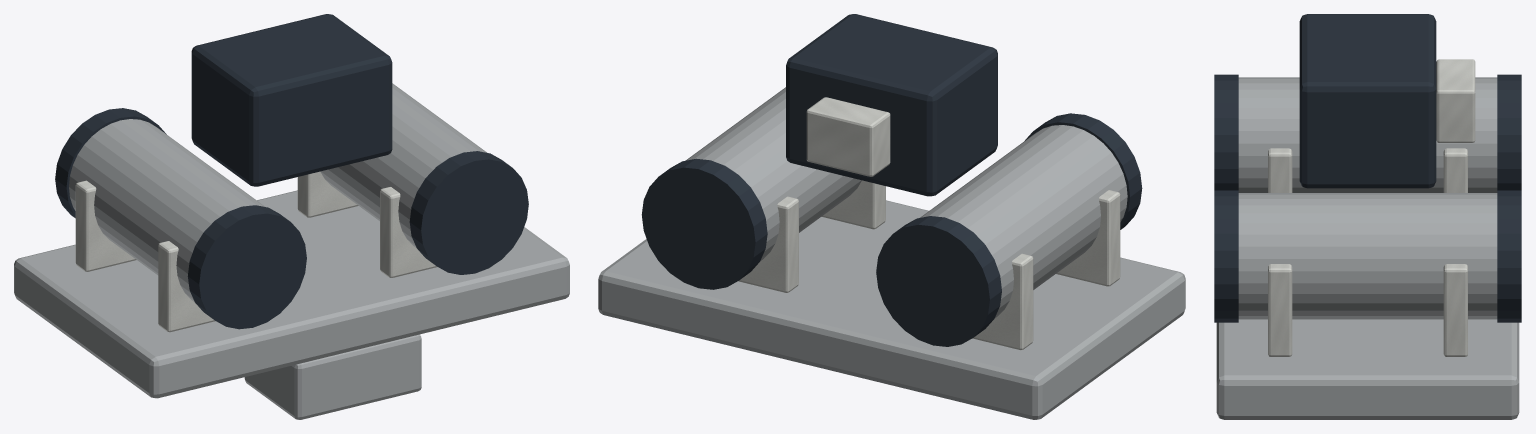
Rendered from lunar_neutron_spectrometer.glb.
3 views of the same model, side by side, from view 1: azimuth 30°, elevation 25°; view 2: azimuth 150°, elevation 25°; view 3: azimuth 270°, elevation 25° (orthographic). The views are drawn at different scales.
Parts seen in each view (by area): view 1: Neutron_Mount, Sensor_Electronics, Neutron_DetectorTube, Detector_EndCap.002, Detector_EndCap, Chassis_StandOff, Neutron_DetectorTube.001, Detector_Clamp.001, Detector_Clamp, Detector_Clamp.002, Detector_EndCap.001, Detector_Clamp.003; view 2: Neutron_Mount, Sensor_Electronics, Neutron_DetectorTube, Detector_EndCap.001, Detector_EndCap.003, Neutron_DetectorTube.001, Sensor_Connector, Detector_Clamp, Detector_Clamp.001, Detector_Clamp.003, Detector_EndCap, Detector_Clamp.002; view 3: Neutron_DetectorTube.001, Neutron_Mount, Sensor_Electronics, Neutron_DetectorTube, Sensor_Connector, Detector_EndCap.002, Detector_EndCap.003, Detector_EndCap, Detector_EndCap.001, Detector_Clamp.002, Detector_Clamp.003, Detector_Clamp (+1 smaller).
Part boxes in pixels (x1=…): Neutron_Mount: x1=14, y1=190, x2=569, y2=398; Sensor_Electronics: x1=191, y1=14, x2=392, y2=186; Neutron_DetectorTube: x1=69, y1=119, x2=265, y2=301; Detector_EndCap.002: x1=409, y1=151, x2=528, y2=274; Detector_EndCap: x1=187, y1=205, x2=306, y2=329; Chassis_StandOff: x1=244, y1=334, x2=421, y2=419; Neutron_DetectorTube.001: x1=320, y1=83, x2=487, y2=247; Detector_Clamp.001: x1=75, y1=180, x2=136, y2=271; Detector_Clamp: x1=158, y1=241, x2=215, y2=332; Detector_Clamp.002: x1=380, y1=187, x2=437, y2=277; Detector_EndCap.001: x1=55, y1=108, x2=166, y2=218; Detector_Clamp.003: x1=297, y1=171, x2=358, y2=217; Neutron_Mount: x1=598, y1=200, x2=1185, y2=419; Sensor_Electronics: x1=786, y1=14, x2=997, y2=196; Neutron_DetectorTube: x1=920, y1=125, x2=1127, y2=318; Detector_EndCap.001: x1=876, y1=216, x2=1001, y2=346; Detector_EndCap.003: x1=641, y1=158, x2=767, y2=289; Neutron_DetectorTube.001: x1=686, y1=87, x2=861, y2=261; Sensor_Connector: x1=806, y1=97, x2=890, y2=176; Detector_Clamp: x1=1056, y1=190, x2=1120, y2=286; Detector_Clamp.001: x1=972, y1=253, x2=1033, y2=350; Detector_Clamp.003: x1=738, y1=196, x2=798, y2=292; Detector_EndCap: x1=1025, y1=113, x2=1142, y2=229; Detector_Clamp.002: x1=821, y1=180, x2=885, y2=229; Neutron_DetectorTube.001: x1=1238, y1=193, x2=1497, y2=319; Neutron_Mount: x1=1216, y1=319, x2=1519, y2=419; Sensor_Electronics: x1=1299, y1=14, x2=1436, y2=188; Neutron_DetectorTube: x1=1238, y1=77, x2=1497, y2=192; Sensor_Connector: x1=1436, y1=59, x2=1475, y2=142; Detector_EndCap.002: x1=1214, y1=190, x2=1238, y2=322; Detector_EndCap.003: x1=1497, y1=190, x2=1521, y2=322; Detector_EndCap: x1=1214, y1=74, x2=1238, y2=190; Detector_EndCap.001: x1=1497, y1=74, x2=1521, y2=190; Detector_Clamp.002: x1=1268, y1=264, x2=1292, y2=356; Detector_Clamp.003: x1=1443, y1=264, x2=1467, y2=356; Detector_Clamp: x1=1268, y1=148, x2=1292, y2=192.
Size of the model in its own units: 0.53 by 0.37 by 0.315.
3 materials, 1 textured.
